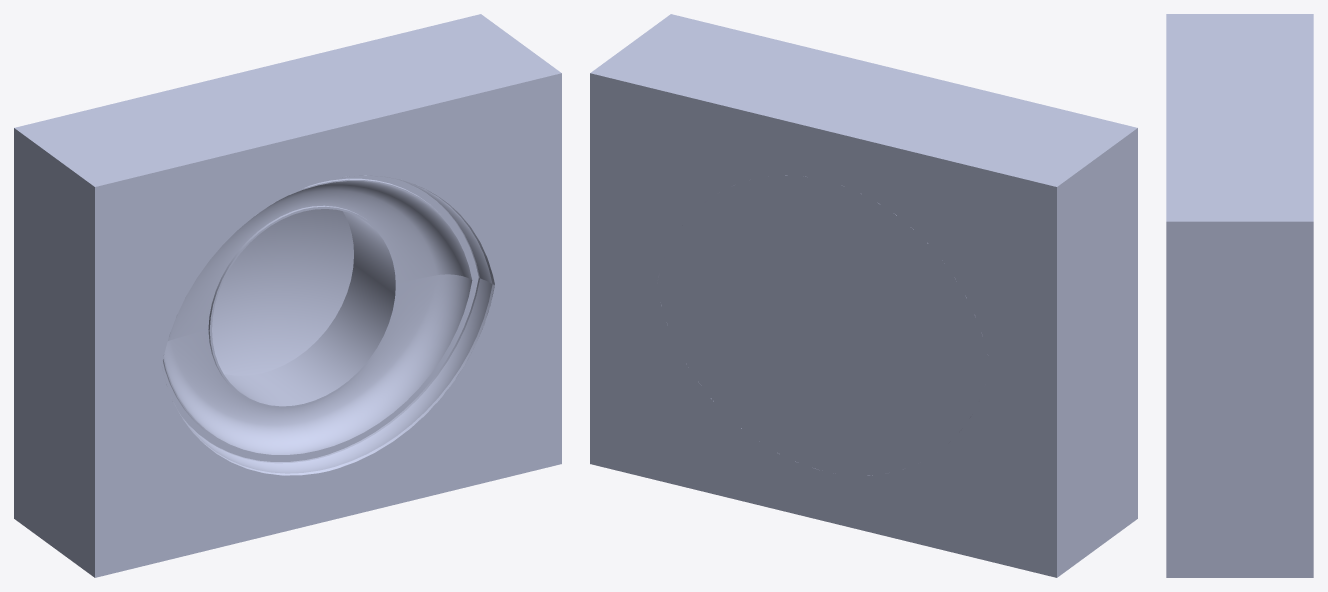
Rendered from Transdec.fbx.
3 views of the same model, side by side, from view 1: azimuth 30°, elevation 25°; view 2: azimuth 150°, elevation 25°; view 3: azimuth 270°, elevation 25° (orthographic). The views are drawn at different scales.
Visible parts, largest first — view 1: Body_2, Body_1; view 2: Body_2, Body_1; view 3: Body_2.
Part boxes in pixels (box(x1,y1,x2,y2)): Body_2: box(14, 14, 561, 577); Body_1: box(161, 175, 494, 475); Body_2: box(590, 14, 1137, 577); Body_1: box(657, 175, 990, 475); Body_2: box(1166, 14, 1313, 577).
Bounding box in the file's own units: 127 × 38.1 × 102.
